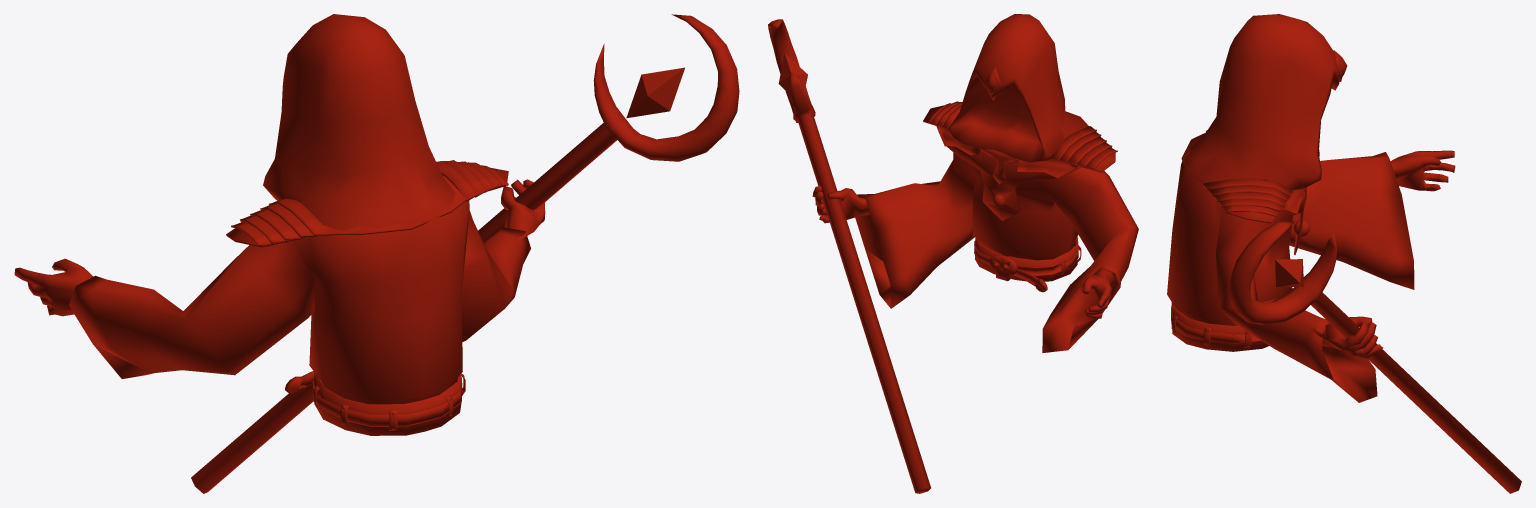
Rendered from top_000013.obj.
The picture shows the model from 3 angles, left to right: view 1: azimuth 30°, elevation 25°; view 2: azimuth 150°, elevation 25°; view 3: azimuth 270°, elevation 25°; orthographic projection. The views are drawn at different scales.
Visible parts, largest first — view 1: LowPoly_Warlock.000_Plane.005; view 2: LowPoly_Warlock.000_Plane.005; view 3: LowPoly_Warlock.000_Plane.005.
Part boxes in pixels (left/top/right/bottom): LowPoly_Warlock.000_Plane.005: left=14, top=14, right=739, bottom=493; LowPoly_Warlock.000_Plane.005: left=768, top=14, right=1138, bottom=493; LowPoly_Warlock.000_Plane.005: left=1167, top=14, right=1521, bottom=493.
Size of the model in its own units: 1.79 by 1.65 by 1.11.
